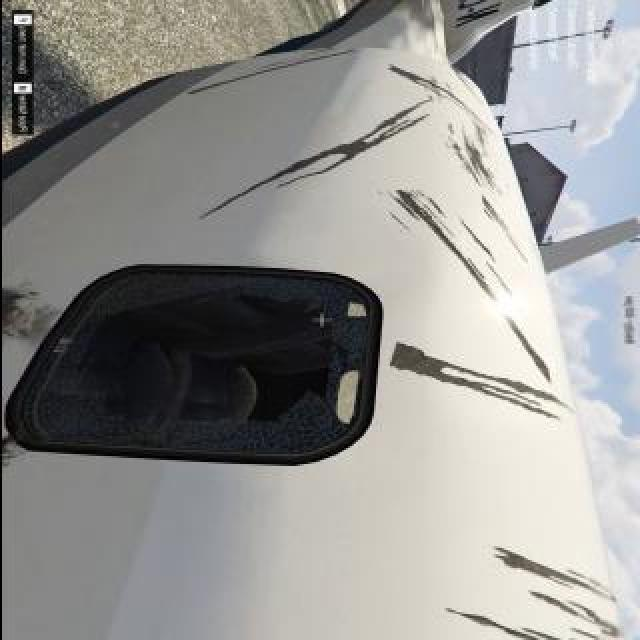dent: (387, 344, 568, 420), (260, 110, 429, 185), (394, 191, 488, 295), (494, 546, 614, 601), (531, 594, 619, 639), (500, 318, 548, 382), (464, 144, 495, 188), (391, 70, 427, 83)
